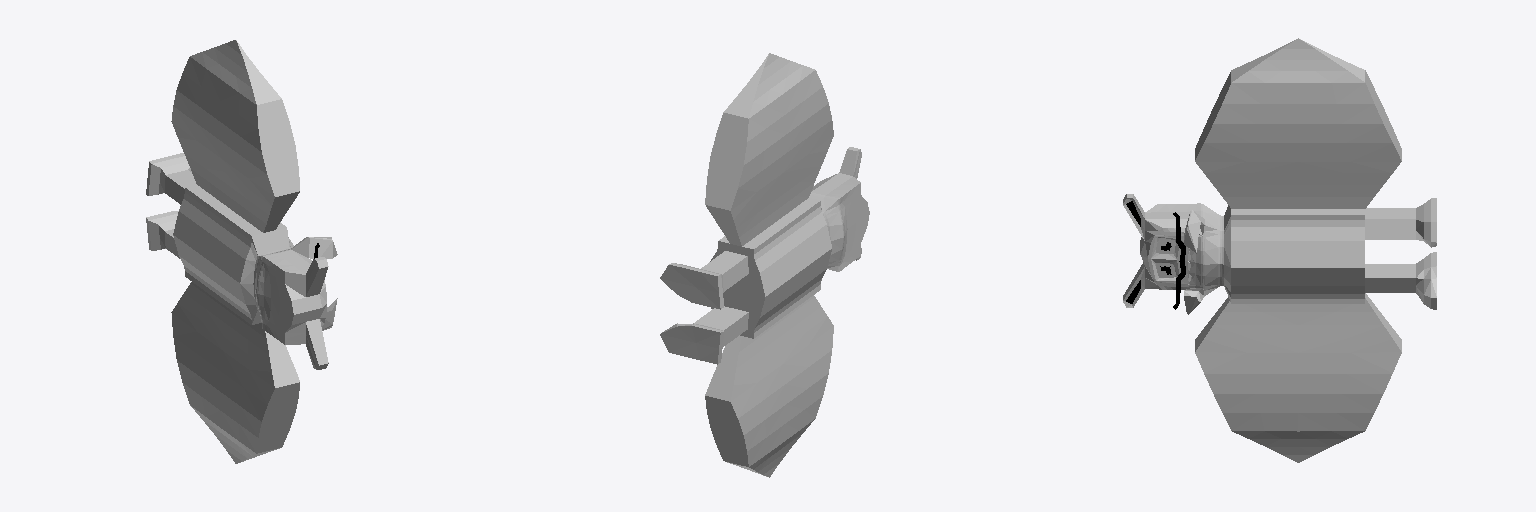
The model's file is bat.obj.
3 renders of one model, left to right at view 1: azimuth 30°, elevation 25°; view 2: azimuth 150°, elevation 25°; view 3: azimuth 270°, elevation 25°, orthographic.
Visible parts, largest first — view 1: Cube_Mesh; view 2: Cube_Mesh; view 3: Cube_Mesh.
Part boxes in pixels (x1,y1,x2,y2): Cube_Mesh: (146,40,337,463); Cube_Mesh: (660,53,869,477); Cube_Mesh: (1123,38,1436,462).
Size of the model in its own units: 2.98 by 15.03 by 10.08.